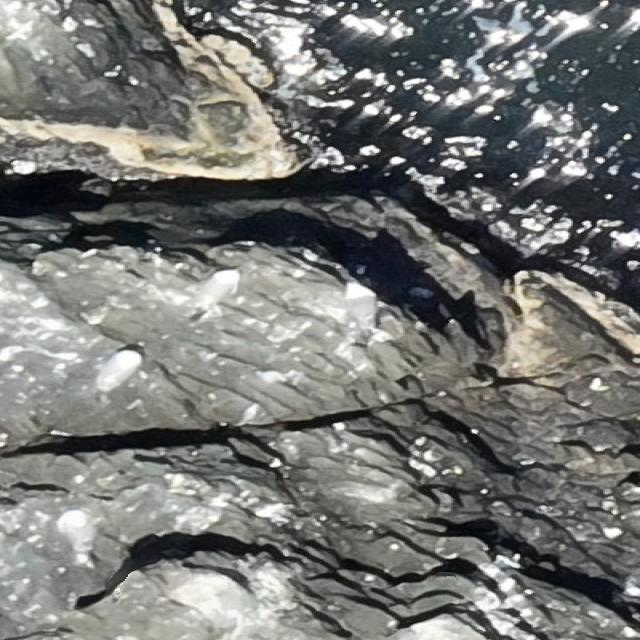umineko: (90, 348, 140, 396), (195, 269, 238, 318), (60, 507, 96, 564), (345, 282, 376, 335)
